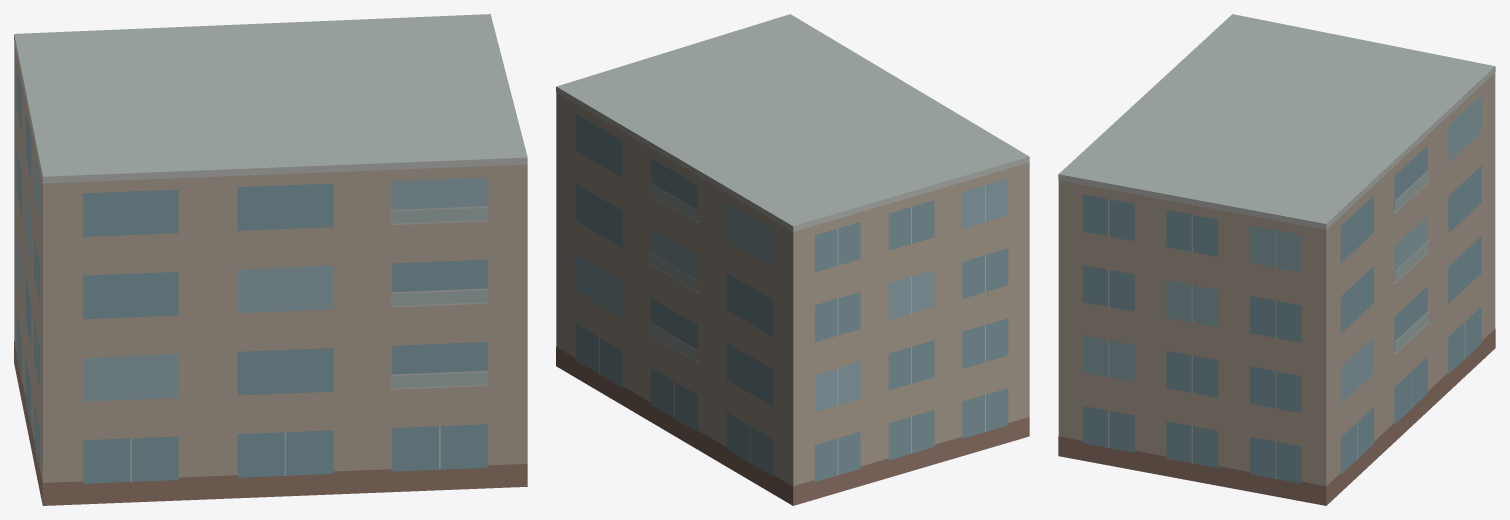
Rendered from survey-upis-32711800.glb.
3 views of the same model, side by side, from view 1: azimuth 30°, elevation 25°; view 2: azimuth 150°, elevation 25°; view 3: azimuth 270°, elevation 25° (orthographic). The views are drawn at different scales.
Visible parts, largest first — view 1: survey-upis-32711800.tmp; view 2: survey-upis-32711800.tmp; view 3: survey-upis-32711800.tmp.
Part boxes in pixels (left/top/right/bottom): survey-upis-32711800.tmp: left=14, top=14, right=527, bottom=505; survey-upis-32711800.tmp: left=556, top=14, right=1029, bottom=505; survey-upis-32711800.tmp: left=1058, top=14, right=1495, bottom=505.
Size of the model in its own units: 18.7 by 11.7 by 16.45.
